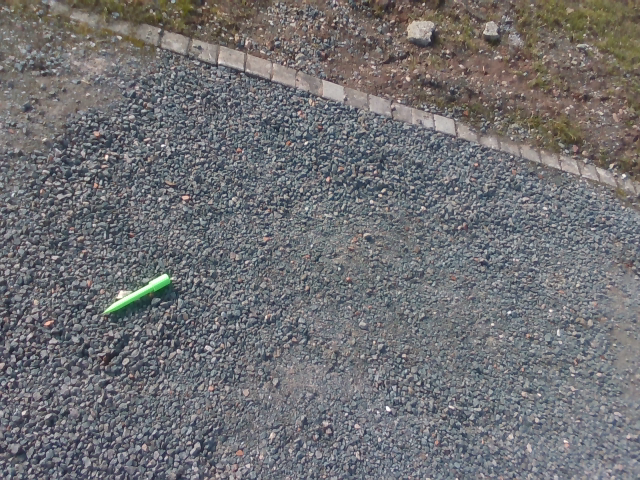Probe: (97, 268, 176, 320)
